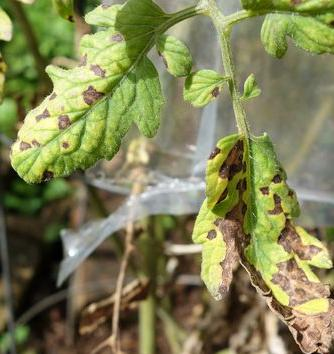Tomato Septoria leaf spot: (4, 0, 189, 190), (193, 126, 334, 354), (231, 0, 334, 60)
